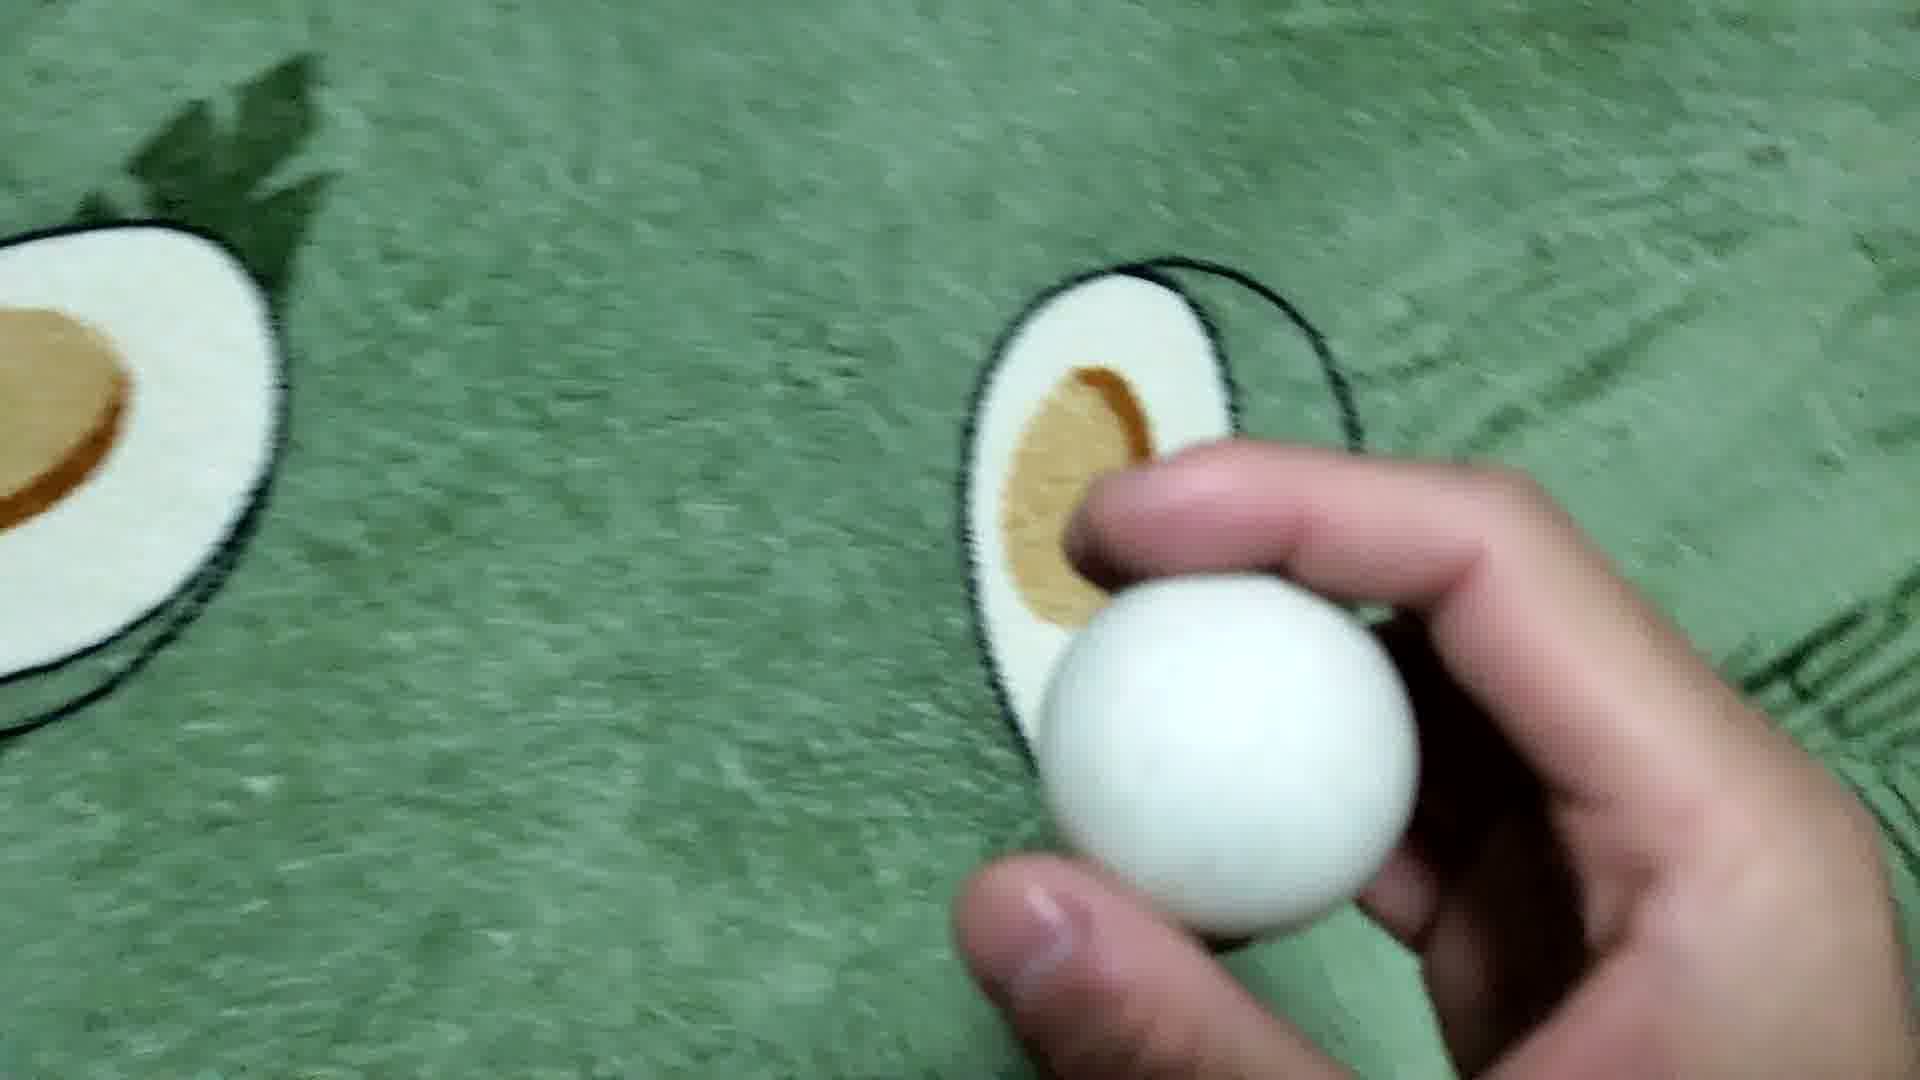Ball: (1022, 566, 1414, 935)
